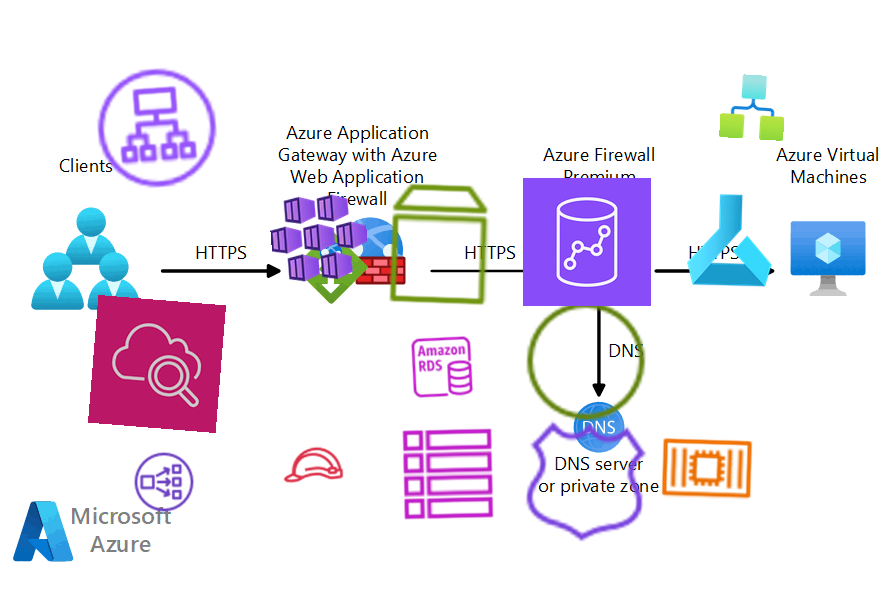aws_amazon_cloudwatch: (88, 295, 226, 433)
aws_amazon_redshift: (522, 177, 652, 307)
aws_aurora_amazon_rds_instance: (408, 333, 476, 401)
aws_dynamodb_table: (398, 424, 498, 524)
aws_elastic_block_store_volume: (373, 177, 507, 311)
aws_elastic_container_service_container_2: (657, 418, 757, 518)
aws_elastic_load_balancing_application_load_balancer: (88, 59, 226, 197)
aws_elastic_load_balancing_network_load_balancer: (131, 449, 197, 515)
aws_identity_access_management_role: (279, 431, 347, 499)
aws_route_53_hosted_zone: (518, 413, 656, 551)
aws_simple_storage_service_object: (520, 295, 652, 427)
azure_kubernetes_services: (267, 185, 371, 289)
azure_logic_apps: (719, 73, 787, 141)
azure_machine_learning: (680, 190, 780, 290)
